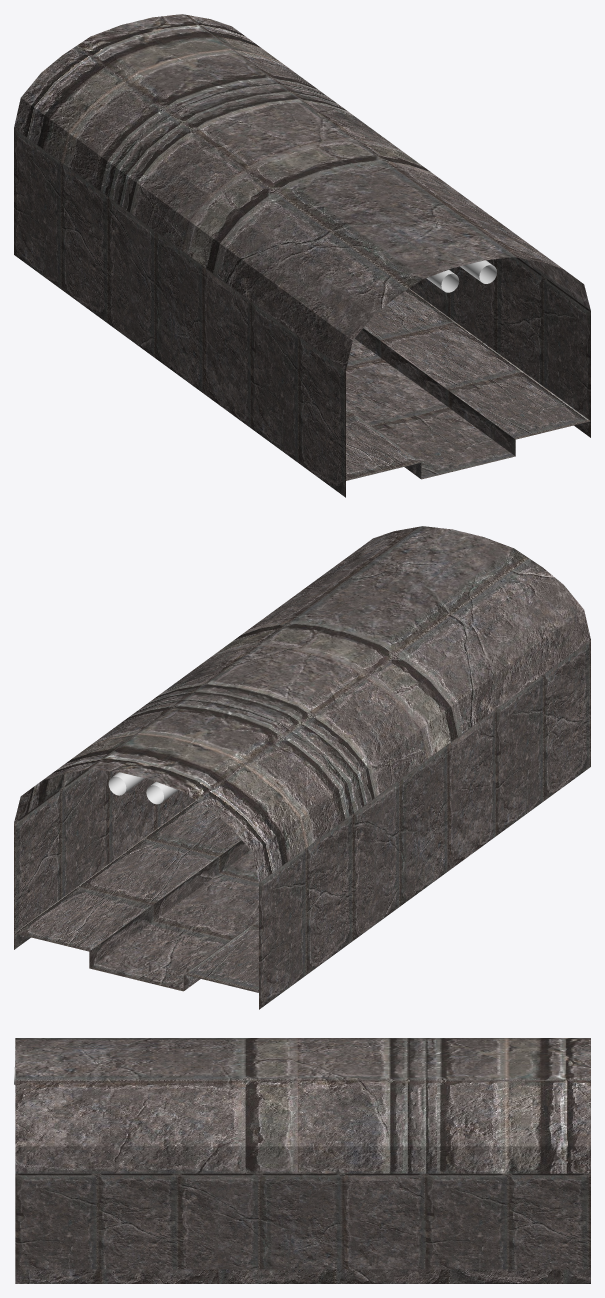
3 views of the same model, one above another, from view 1: azimuth 30°, elevation 25°; view 2: azimuth 150°, elevation 25°; view 3: azimuth 270°, elevation 25° (orthographic). The views are drawn at different scales.
Visible parts, largest first — view 1: 하수구 일자길 벽면, 하수구 일자 길, 일자길 파이프; view 2: 하수구 일자길 벽면, 하수구 일자 길, 일자길 파이프; view 3: 하수구 일자길 벽면, 하수구 일자 길.
Part boxes in pixels (bbox=[...]): 하수구 일자길 벽면: bbox=[14, 14, 590, 497]; 하수구 일자 길: bbox=[346, 288, 590, 480]; 일자길 파이프: bbox=[426, 260, 496, 292]; 하수구 일자길 벽면: bbox=[14, 526, 590, 1009]; 하수구 일자 길: bbox=[14, 800, 258, 992]; 일자길 파이프: bbox=[108, 772, 178, 804]; 하수구 일자길 벽면: bbox=[15, 1038, 590, 1269]; 하수구 일자 길: bbox=[15, 1269, 590, 1283].
Bounding box in the file's own units: 139 × 110 × 327.
